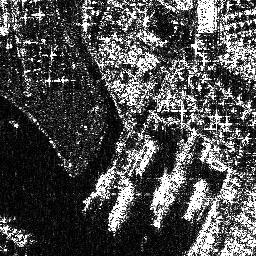ship: (106, 183, 132, 233), (184, 178, 206, 219), (135, 139, 159, 174), (150, 173, 169, 210)
